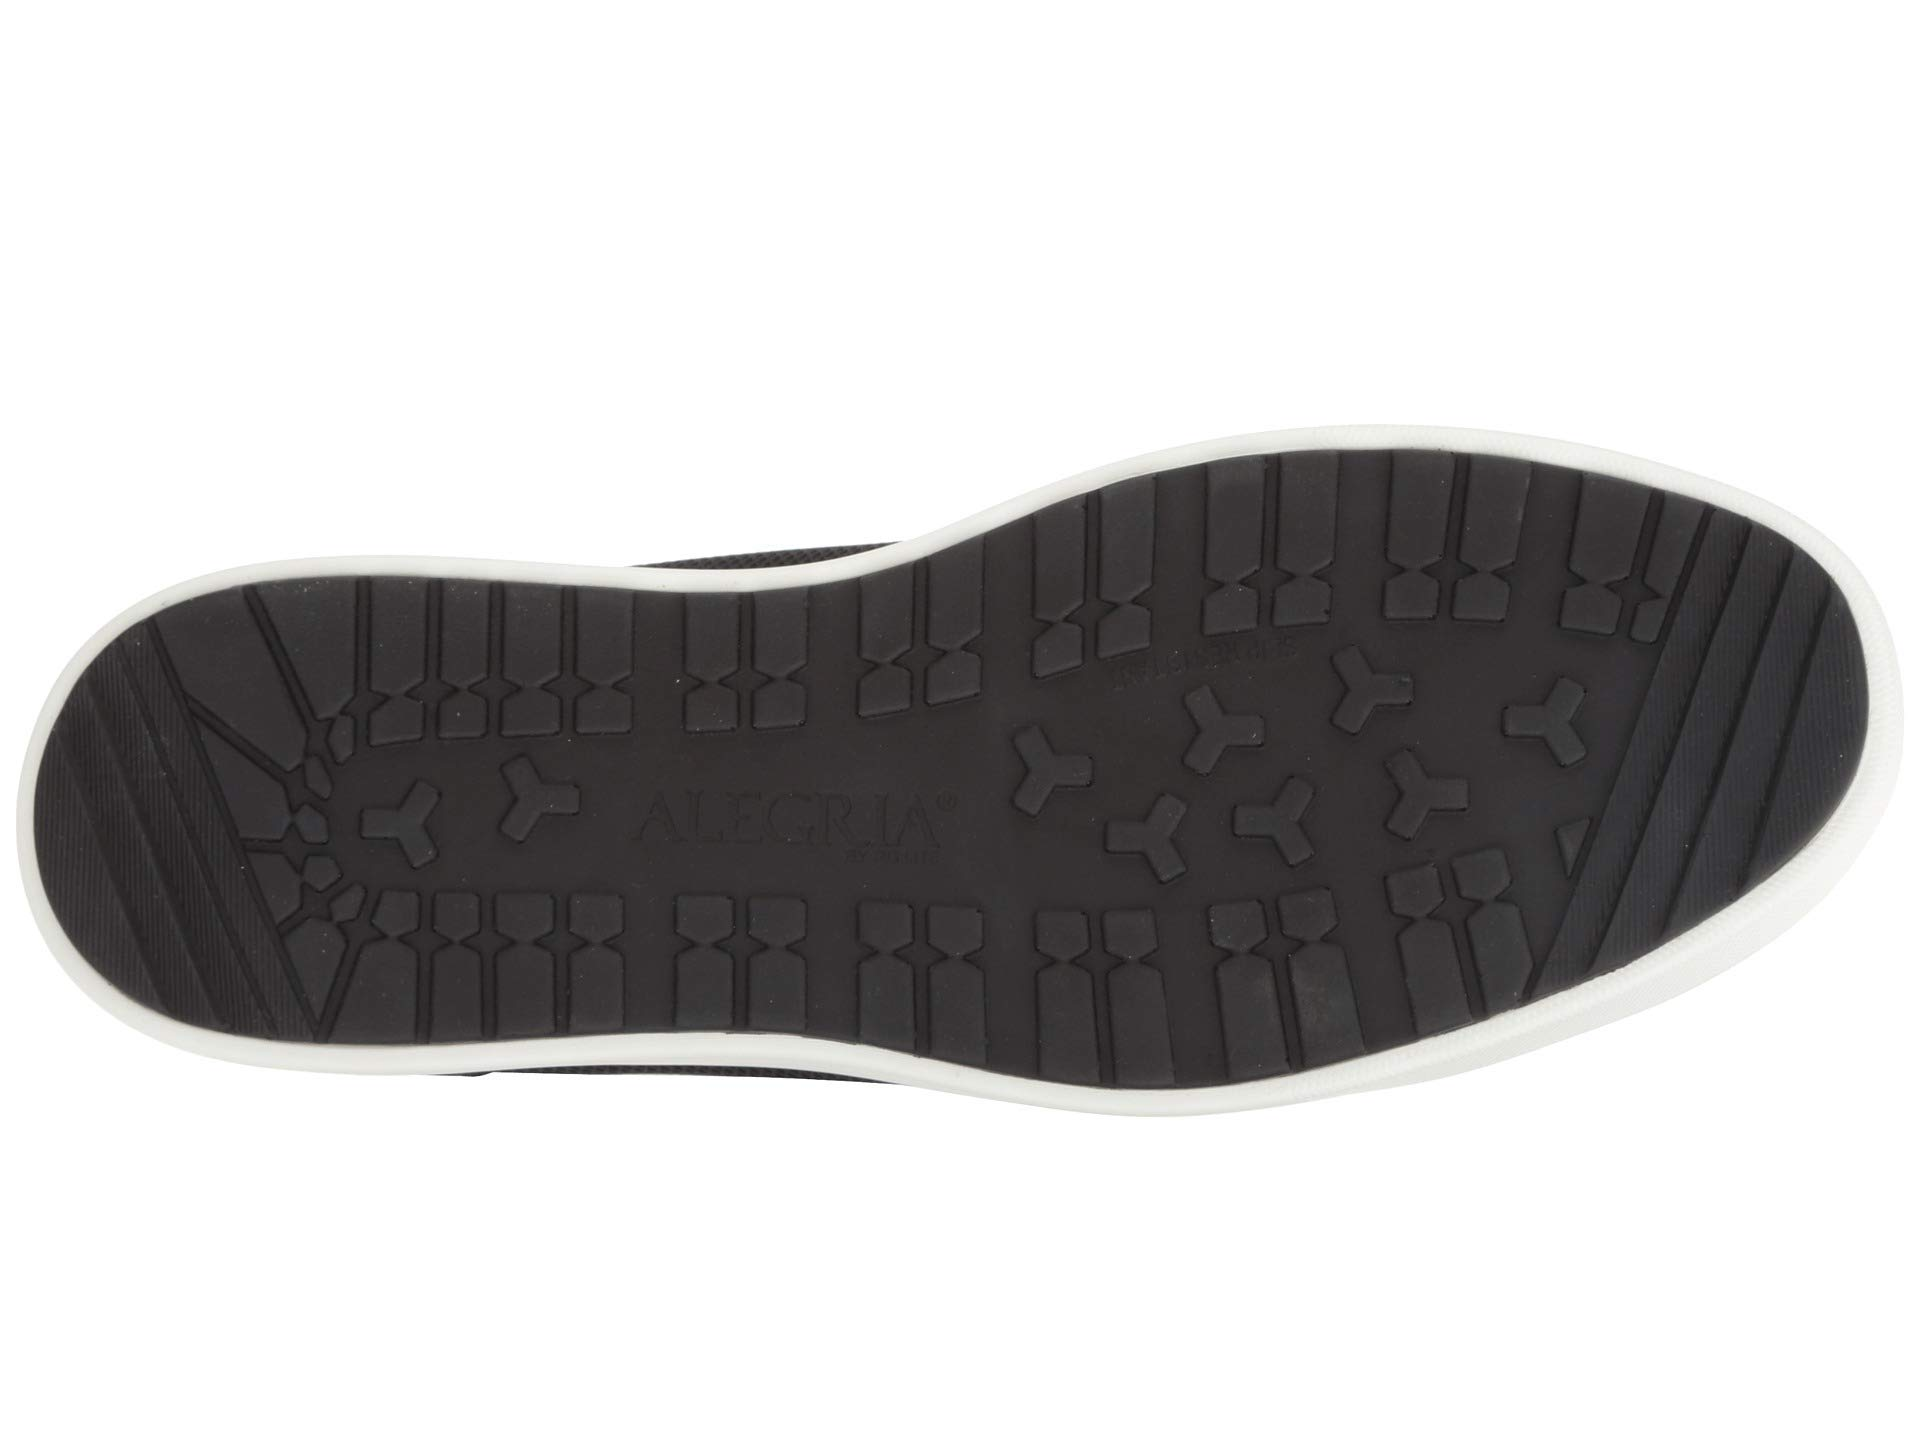bowtie: (417, 874, 639, 1069), (667, 573, 853, 781), (845, 885, 1008, 1066)
line: (1680, 620, 1858, 781)
star: (1137, 616, 1418, 895), (1460, 655, 1621, 812), (983, 709, 1129, 858), (469, 749, 612, 877), (334, 768, 463, 895)
triangle: (1539, 796, 1624, 871)
